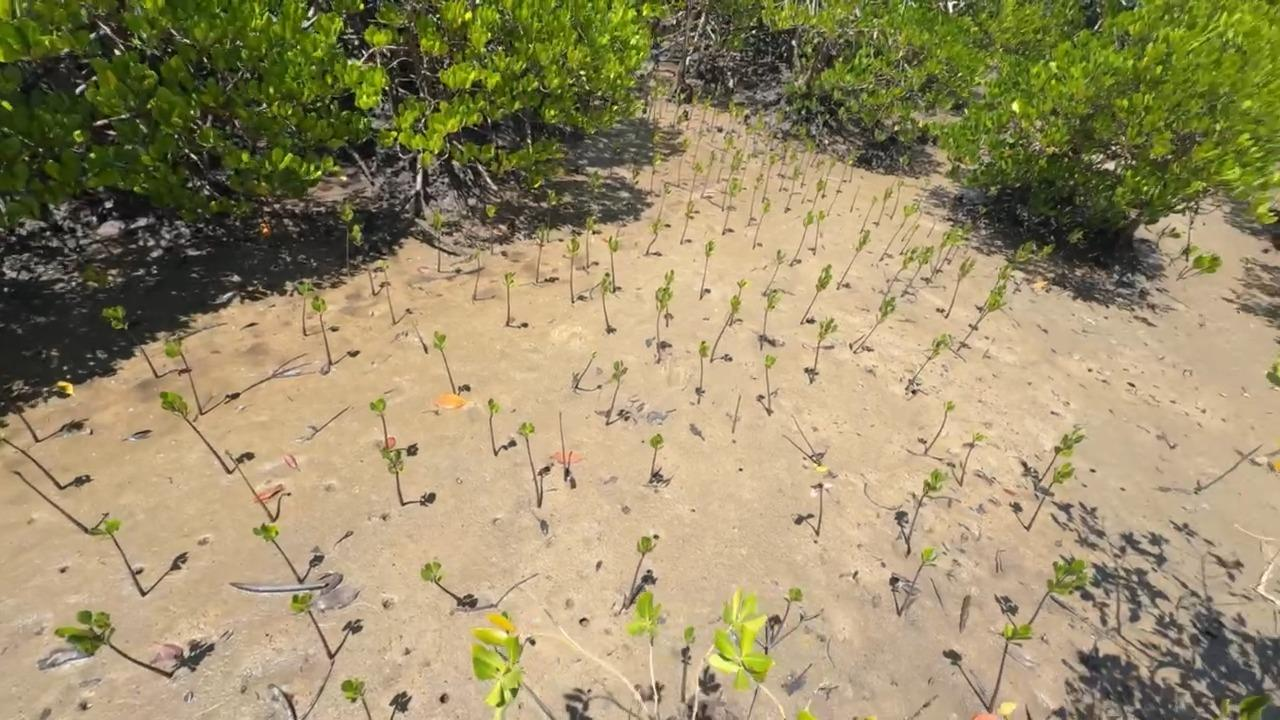Tree: (54, 610, 173, 679), (160, 391, 231, 472), (11, 470, 93, 535), (88, 518, 147, 598), (102, 304, 159, 378), (988, 623, 1033, 713), (1027, 560, 1088, 625), (224, 448, 276, 522), (907, 467, 949, 557), (1026, 462, 1076, 531), (0, 437, 63, 489), (1194, 445, 1263, 490), (253, 523, 303, 585), (288, 592, 334, 659), (164, 338, 203, 415), (897, 547, 938, 617), (1038, 426, 1087, 483), (957, 295, 1005, 352), (905, 333, 951, 390), (623, 536, 657, 610), (853, 297, 896, 354), (878, 203, 919, 262), (1013, 242, 1057, 294), (0, 388, 40, 443), (710, 295, 742, 363), (517, 421, 542, 508), (348, 224, 377, 296), (836, 230, 870, 291), (885, 246, 924, 298), (420, 561, 464, 607), (944, 256, 976, 319), (800, 264, 832, 325), (771, 587, 803, 644), (900, 246, 935, 298), (810, 317, 837, 384), (925, 228, 956, 284), (77, 262, 118, 304), (978, 263, 1013, 312), (924, 401, 956, 454), (827, 156, 854, 217), (791, 414, 822, 466), (310, 295, 333, 365), (338, 200, 368, 253), (959, 432, 987, 488), (654, 286, 674, 364), (605, 359, 628, 426), (433, 331, 457, 394), (789, 210, 815, 267), (722, 148, 744, 212), (380, 449, 404, 507), (935, 227, 964, 275), (375, 260, 396, 326), (974, 284, 1007, 326), (1176, 251, 1222, 281), (693, 95, 713, 161), (760, 289, 781, 351), (946, 222, 976, 265), (1003, 241, 1032, 285), (681, 627, 697, 703), (342, 677, 369, 720), (536, 223, 555, 283), (763, 248, 786, 296), (267, 682, 296, 720), (722, 176, 740, 235), (699, 239, 716, 300), (369, 397, 388, 449), (729, 278, 748, 328), (566, 233, 579, 303), (752, 200, 770, 250), (648, 433, 665, 485), (297, 281, 313, 335), (748, 173, 764, 227), (761, 152, 778, 202), (800, 138, 817, 188), (697, 340, 710, 405), (700, 150, 717, 199), (784, 164, 801, 213), (716, 136, 733, 183), (575, 351, 596, 388), (810, 482, 824, 537), (1154, 222, 1186, 246), (820, 157, 838, 199), (710, 82, 726, 129), (859, 195, 878, 234), (765, 354, 777, 415), (677, 136, 691, 188), (769, 108, 786, 150), (898, 224, 921, 255), (488, 397, 500, 456), (876, 186, 893, 227), (601, 272, 612, 335), (901, 211, 923, 242), (545, 189, 557, 244), (679, 200, 694, 244), (650, 151, 665, 195), (1170, 245, 1203, 265), (433, 207, 443, 272), (664, 269, 675, 328), (608, 235, 619, 294), (504, 272, 516, 326), (559, 412, 568, 481), (689, 160, 704, 201), (645, 220, 662, 256), (813, 209, 826, 256), (727, 101, 744, 135), (751, 111, 764, 155), (486, 204, 497, 255), (809, 177, 825, 212), (656, 185, 671, 222), (673, 88, 686, 129), (890, 180, 903, 220), (412, 322, 428, 354), (689, 90, 703, 120), (586, 217, 594, 269), (473, 250, 481, 301), (659, 83, 669, 119), (732, 395, 741, 434), (850, 144, 859, 183), (652, 80, 660, 122), (850, 185, 861, 213), (744, 122, 752, 149), (801, 184, 810, 204), (927, 223, 936, 238), (1264, 450, 1280, 457)
